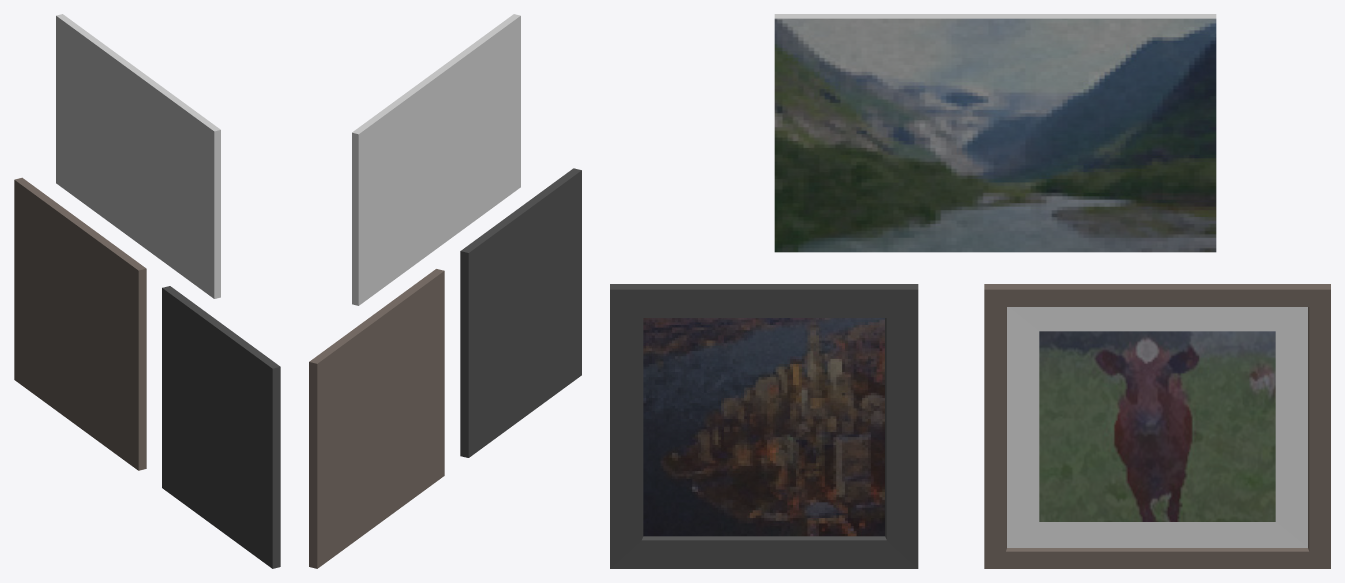
Rendered from FreePicture1.fbx.
3 renders of one model, left to right at view 1: azimuth 30°, elevation 25°; view 2: azimuth 150°, elevation 25°; view 3: azimuth 270°, elevation 25°, orthographic. The views are drawn at different scales.
Parts seen in each view (by area): view 1: Nature, Cow, City; view 2: Nature, Cow, City; view 3: Nature, Cow, City.
Boxes of the visible parts, box(x1,y1,x2,y2) form: Nature: box(56, 14, 220, 298); Cow: box(14, 177, 146, 470); City: box(162, 286, 280, 568); Nature: box(352, 14, 520, 305); Cow: box(309, 269, 444, 568); City: box(460, 168, 581, 457); Nature: box(774, 14, 1216, 252); Cow: box(984, 284, 1330, 568); City: box(610, 284, 918, 568).
Bounding box in the file's own units: 1.89 × 88.57 × 105.
Materials: 7 (3 with a texture image).
